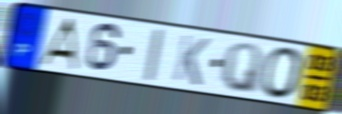6: (85, 21, 121, 75)
A: (36, 17, 79, 72)
I: (143, 28, 166, 83)
K: (171, 32, 212, 88)
O: (260, 46, 306, 101)
Q: (220, 41, 265, 97)
